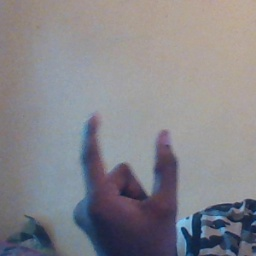U: (69, 107, 181, 256)
